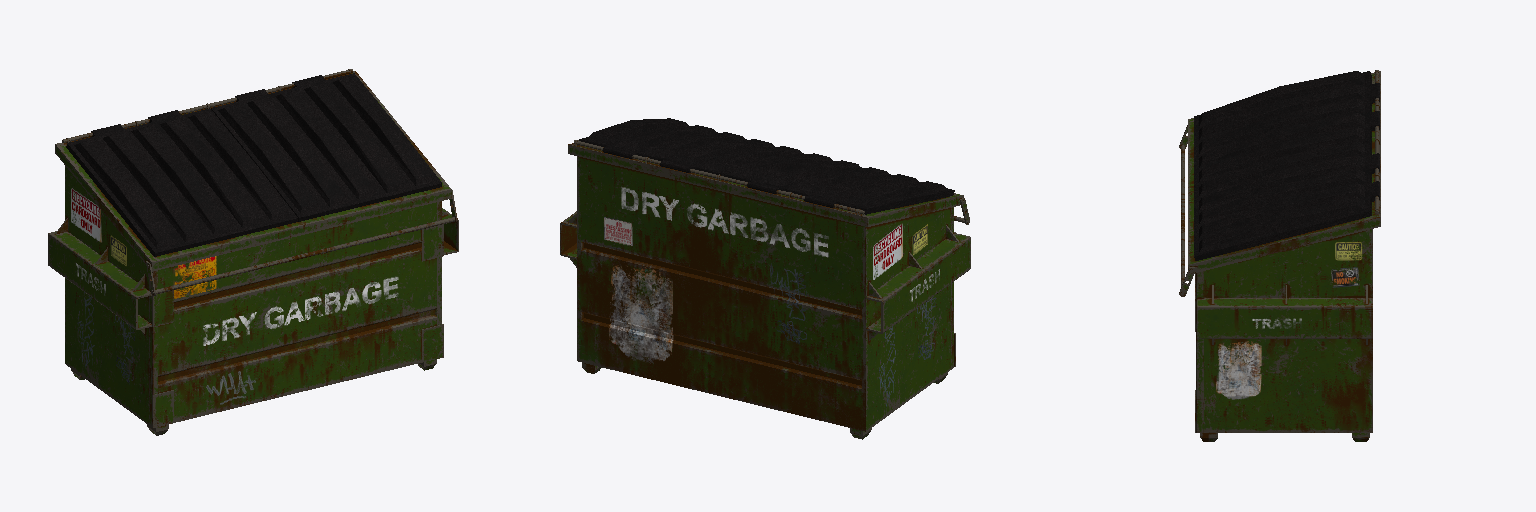
3 renders of one model, left to right at view 1: azimuth 30°, elevation 25°; view 2: azimuth 150°, elevation 25°; view 3: azimuth 270°, elevation 25°, orthographic.
Visible parts, largest first — view 1: Dumpster_low_Untitled; view 2: Dumpster_low_Untitled; view 3: Dumpster_low_Untitled.
Boxes of the visible parts, <box> form: Dumpster_low_Untitled: <box>48,69,458,435</box>; Dumpster_low_Untitled: <box>560,118,970,439</box>; Dumpster_low_Untitled: <box>1179,70,1380,441</box>.
Size of the model in its own units: 2.1 by 1.47 by 1.13.
Materials: 1 (1 with a texture image).